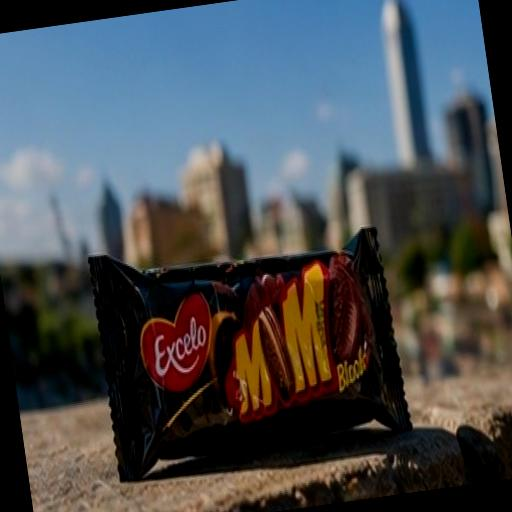MOMO: (41, 147, 449, 512)
